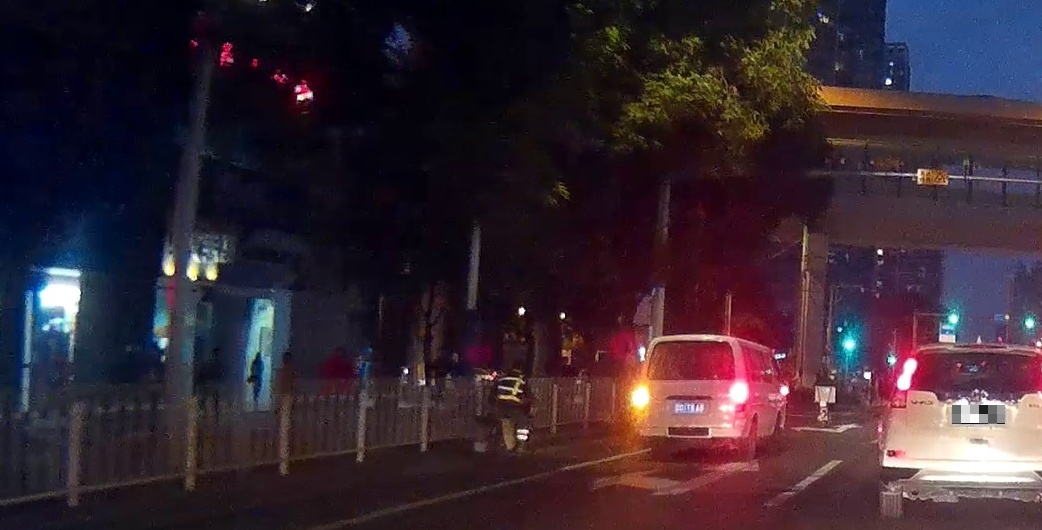L_light: (630, 381, 649, 414)
R_light: (731, 380, 749, 412)
T_light: (681, 341, 704, 349)
night-left: (631, 334, 749, 460)
plate_1: (952, 405, 1005, 424)
